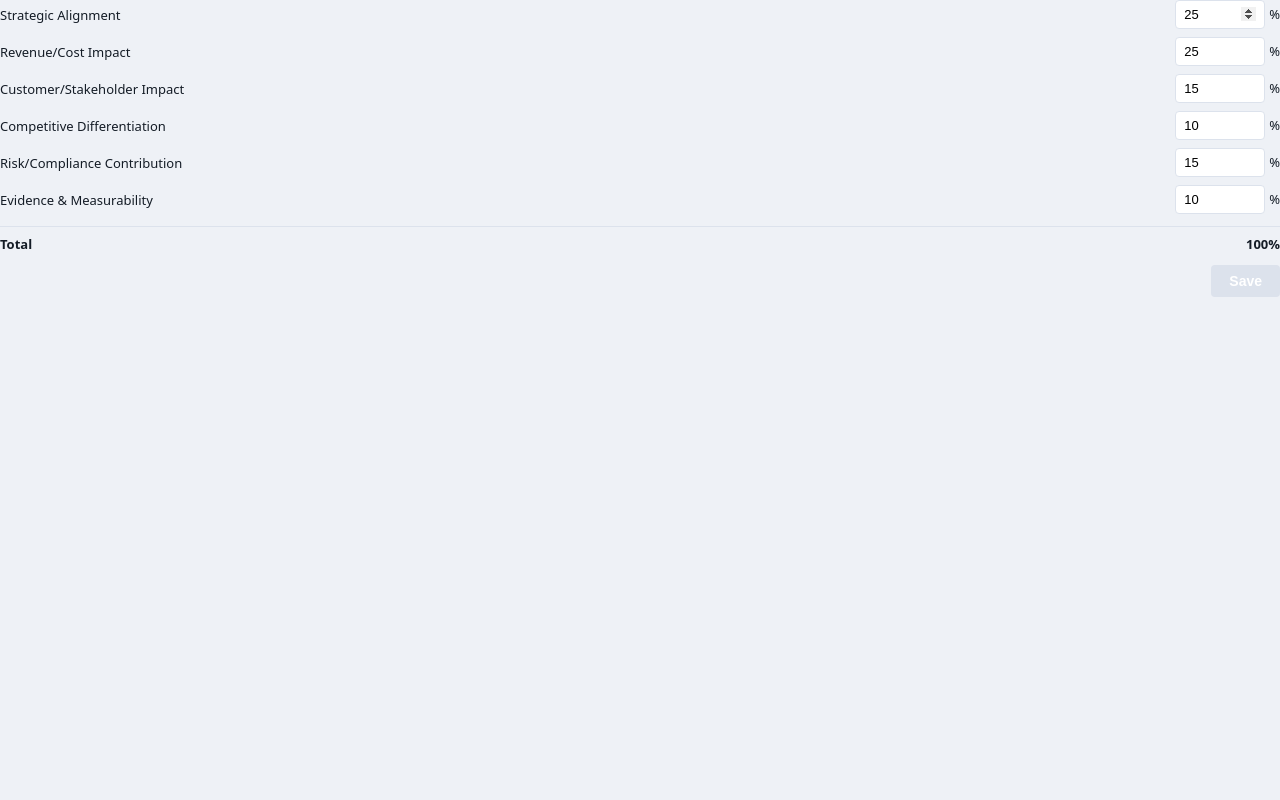
Test: RubricEditor › enables Save and shows the confirmation dialog once weights change and still sum to 100%
Replace the text in the number field labelled "Strategic Alignment %" with "35" at coordinates (1220, 14), box [1175,0,1265,29]
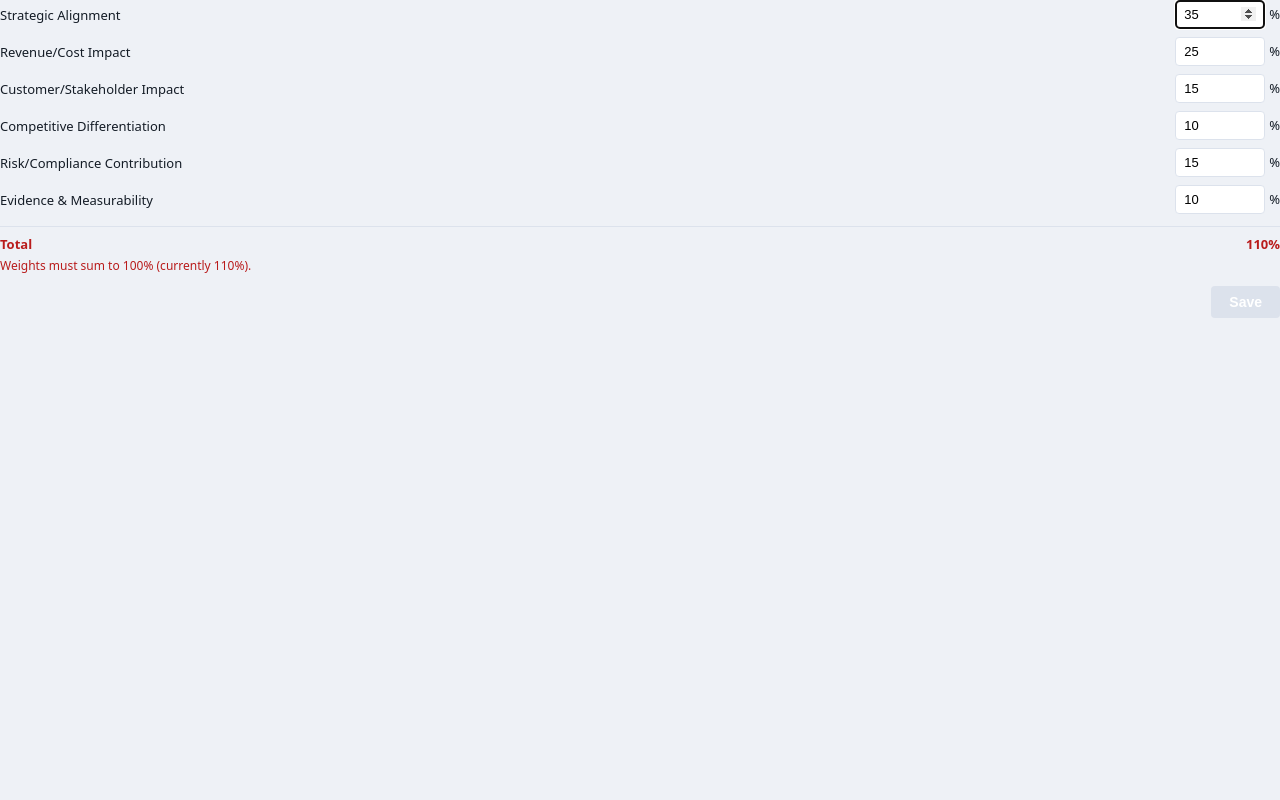
Replace the text in the number field labelled "Revenue/Cost Impact %" with "15" at coordinates (1220, 52), box [1175,37,1265,66]
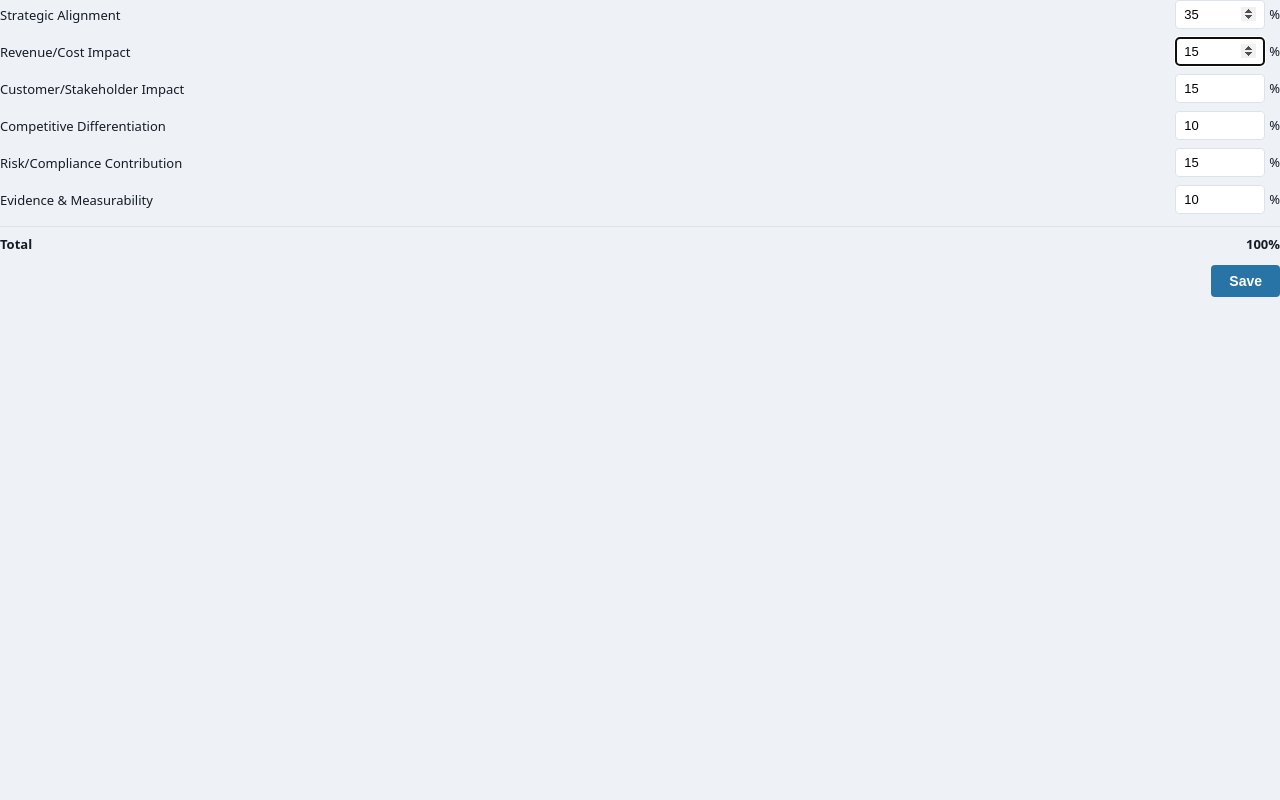
Now the button "Save" is enabled
Click the button "Save" at coordinates (1246, 281), box [1211,265,1279,297]
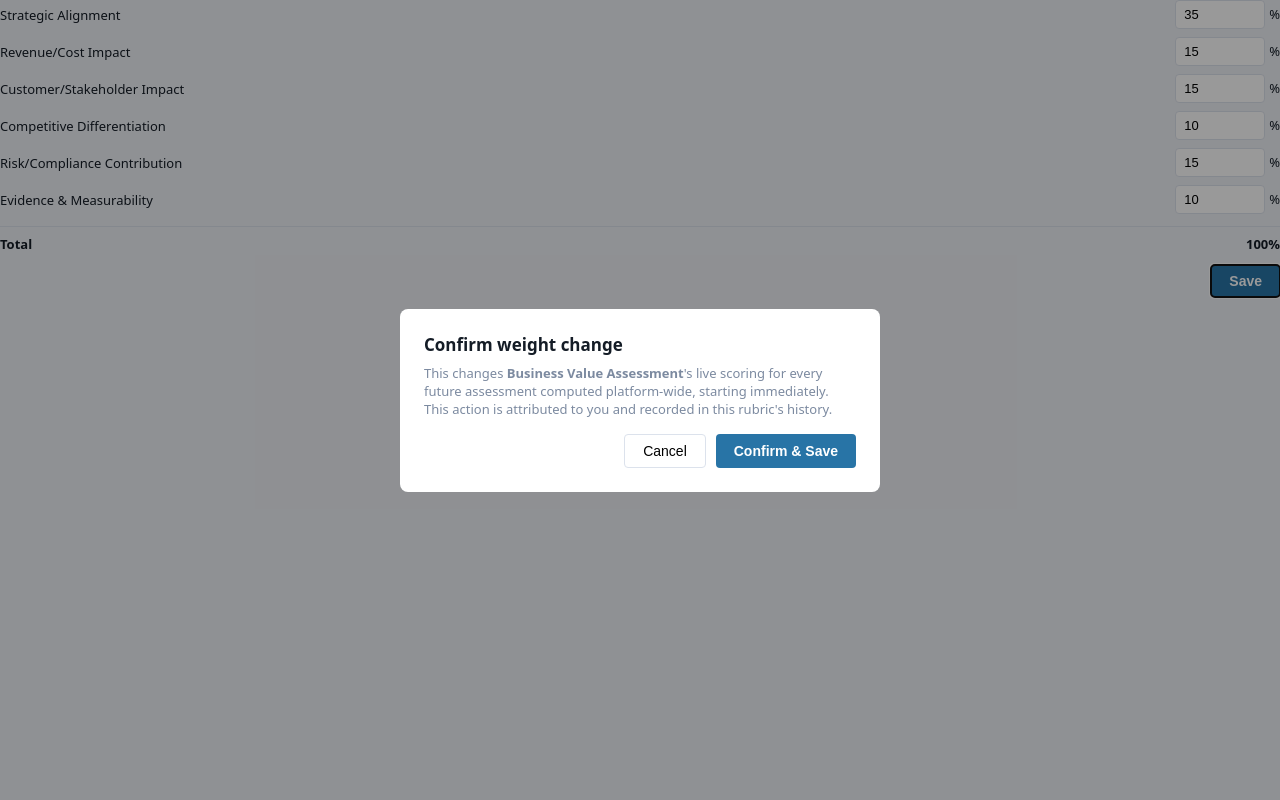
Now the heading "Confirm weight change" is shown, box [424,332,623,356]
